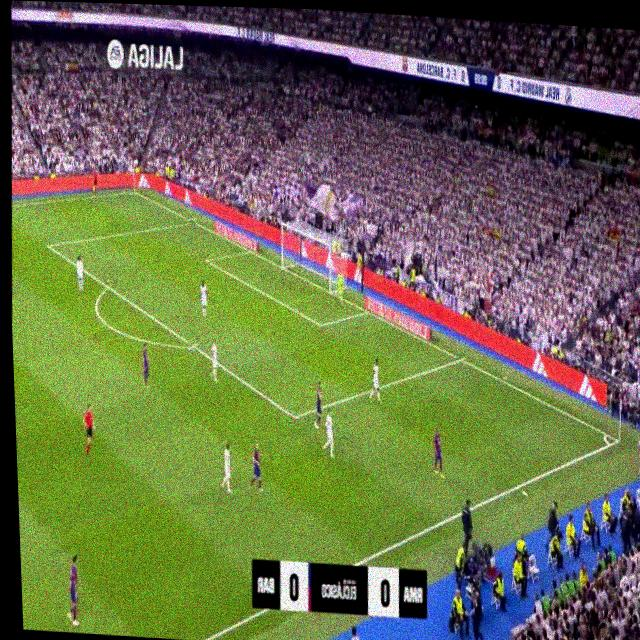bigarea_bottom_inner: (288, 405, 300, 428)
bigarea_bottom_outter: (455, 351, 466, 366)
bigarea_top_inner: (45, 238, 52, 252)
bigarea_top_outter: (189, 214, 196, 226)
bottom_arc_area_intersection: (187, 336, 198, 354)
corner: (130, 185, 138, 194)
smallarea_bottom_inner: (315, 314, 326, 334)
smallarea_top_inner: (205, 254, 210, 264)
top_arc_area_intersection: (104, 278, 112, 293)
